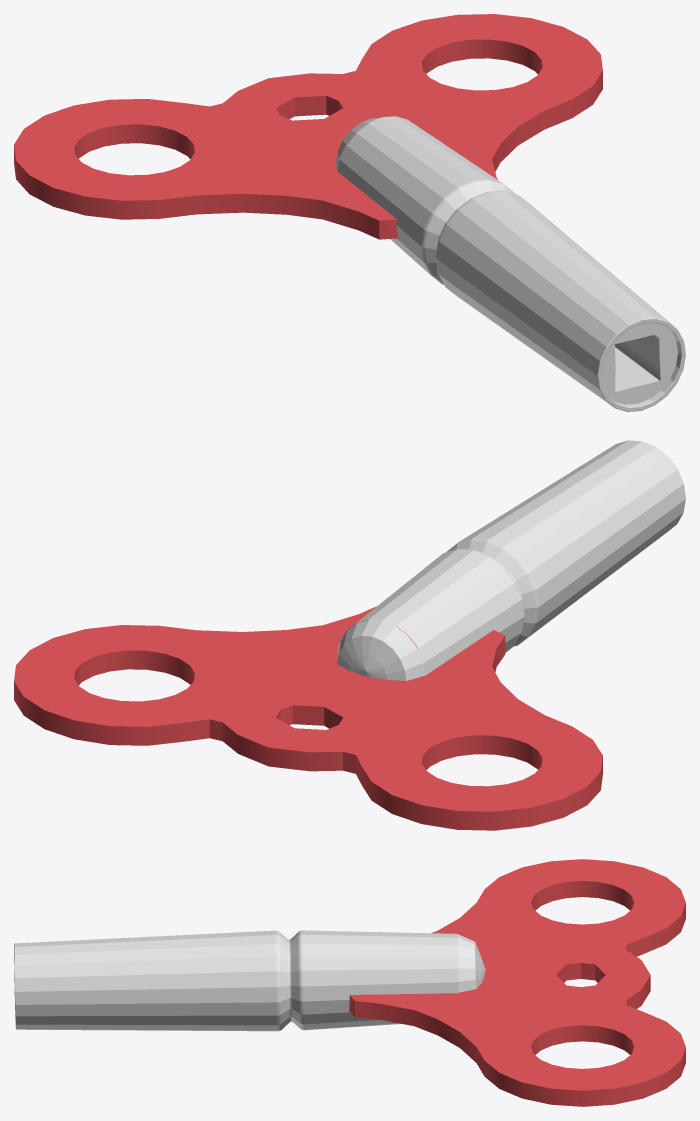
Rendered from KeyWithColoring.fbx.
3 renders of one model, top to bottom at view 1: azimuth 30°, elevation 25°; view 2: azimuth 150°, elevation 25°; view 3: azimuth 270°, elevation 25°, orthographic. The views are drawn at different scales.
Visible parts, largest first — view 1: MapleSyrup2_WindKey; view 2: MapleSyrup2_WindKey; view 3: MapleSyrup2_WindKey.
Part boxes in pixels (x1,y1,x2,y2): MapleSyrup2_WindKey: (14,14,685,411); MapleSyrup2_WindKey: (14,440,685,830); MapleSyrup2_WindKey: (14,859,685,1106).
Bounding box in the file's own units: 474 × 88.02 × 581.
